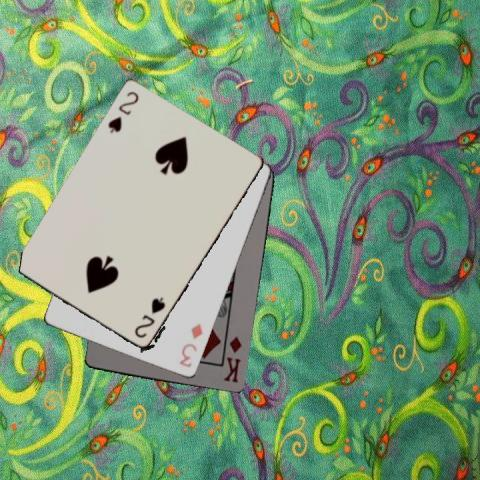2s: (131, 294, 167, 340), (104, 89, 140, 135)
3d: (176, 321, 205, 369)
Kd: (222, 333, 244, 385)
